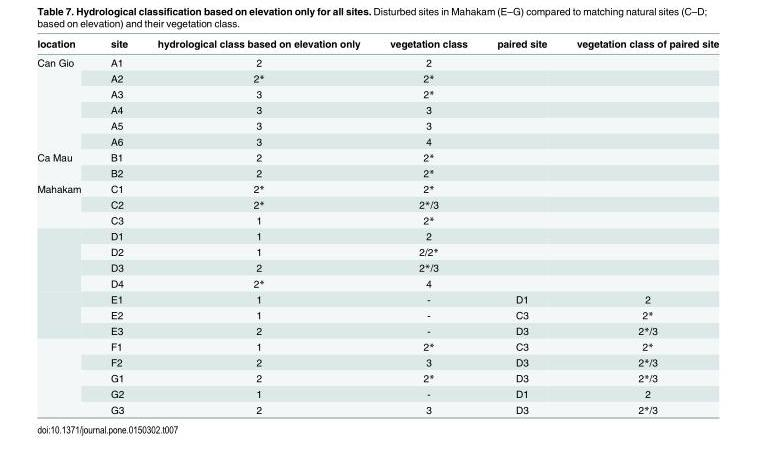table: (36, 37, 718, 415)
table column: (141, 37, 374, 415), (561, 37, 718, 415), (374, 37, 481, 415), (481, 37, 561, 415), (36, 37, 95, 415), (95, 37, 141, 415)
table column header: (36, 37, 718, 52)
table row: (36, 52, 718, 69), (36, 69, 718, 85), (36, 85, 718, 101), (36, 101, 718, 117), (36, 117, 718, 133), (36, 148, 718, 164), (36, 164, 718, 180), (36, 180, 718, 196), (36, 196, 718, 212), (36, 212, 718, 228), (36, 243, 718, 259), (36, 259, 718, 275), (36, 275, 718, 291), (36, 306, 718, 322), (36, 322, 718, 338), (36, 338, 718, 354), (36, 369, 718, 385), (36, 385, 718, 401), (36, 37, 718, 52), (36, 133, 718, 148), (36, 228, 718, 243), (36, 291, 718, 306), (36, 354, 718, 369), (36, 401, 718, 415)
table spanning cell: (36, 180, 95, 415), (36, 52, 95, 148), (36, 148, 95, 180)
